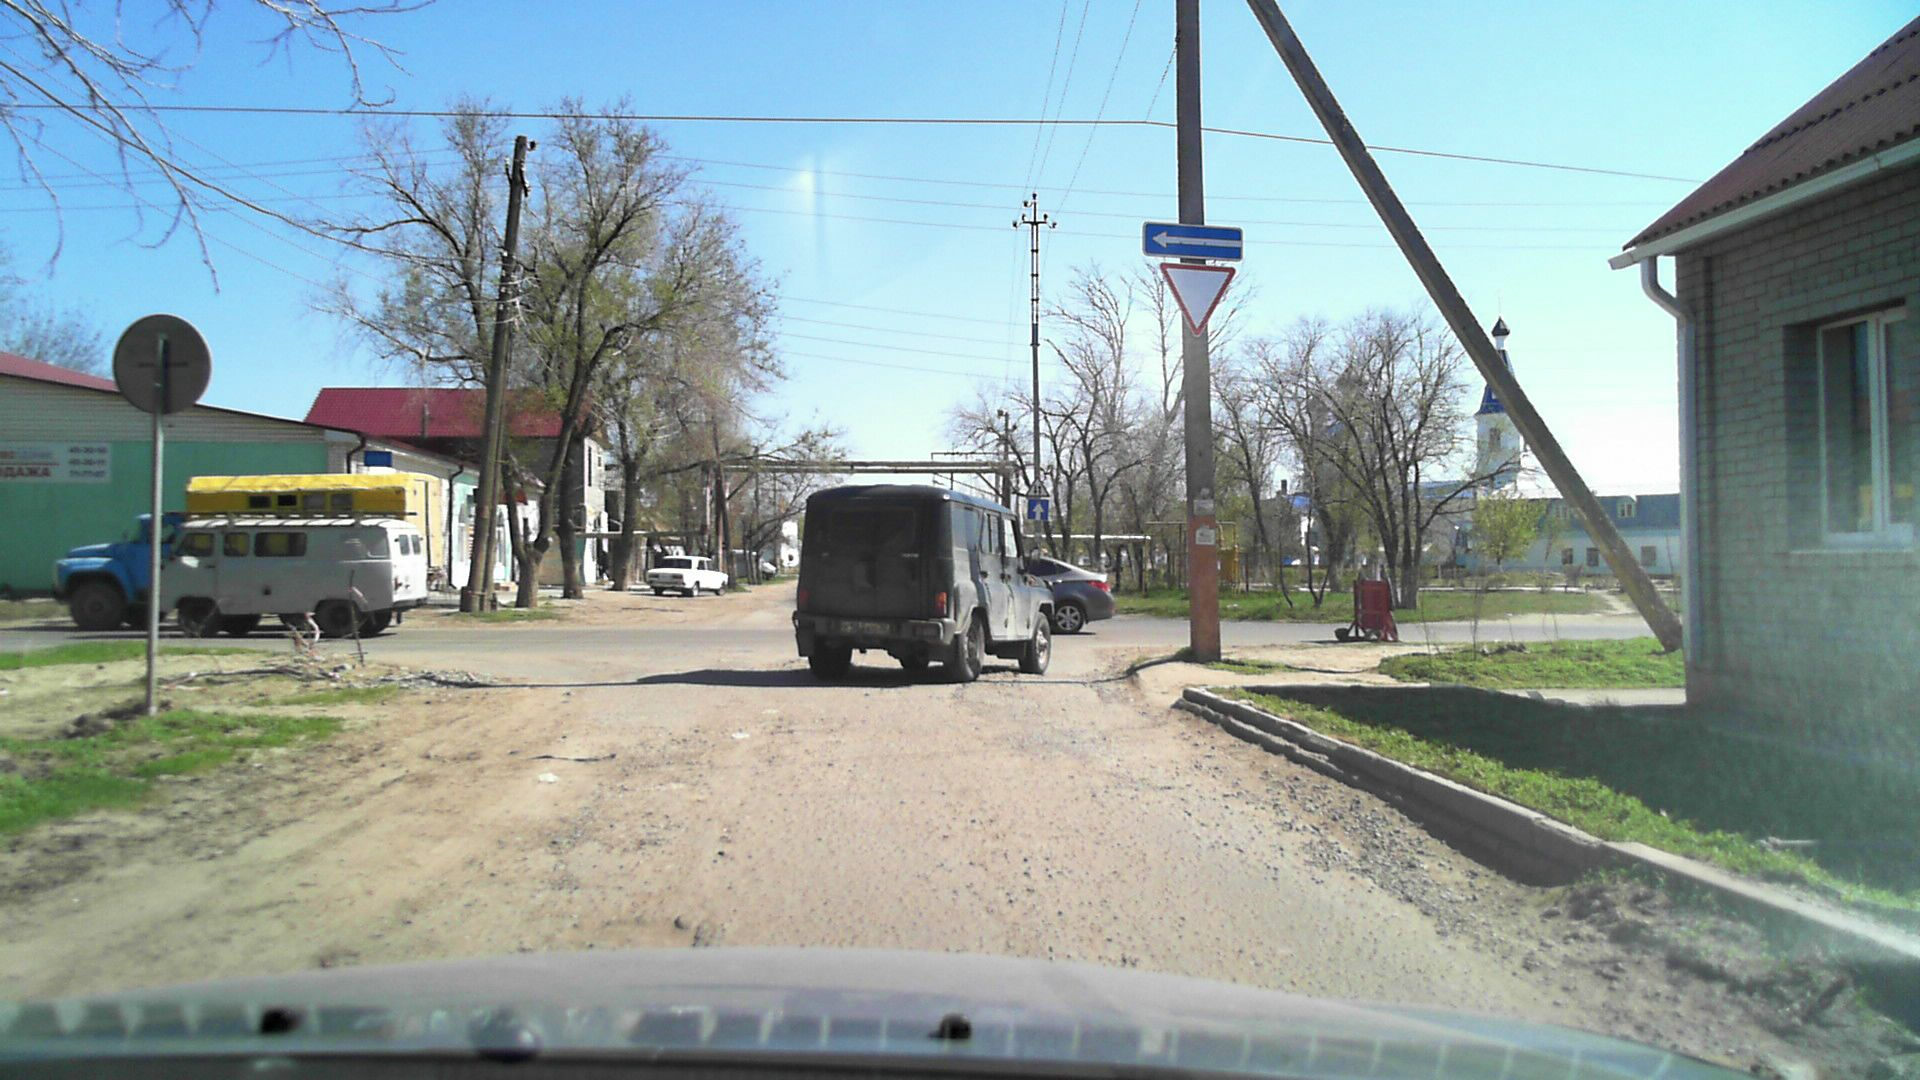One-Way Traffic: (1141, 222, 1244, 262)
